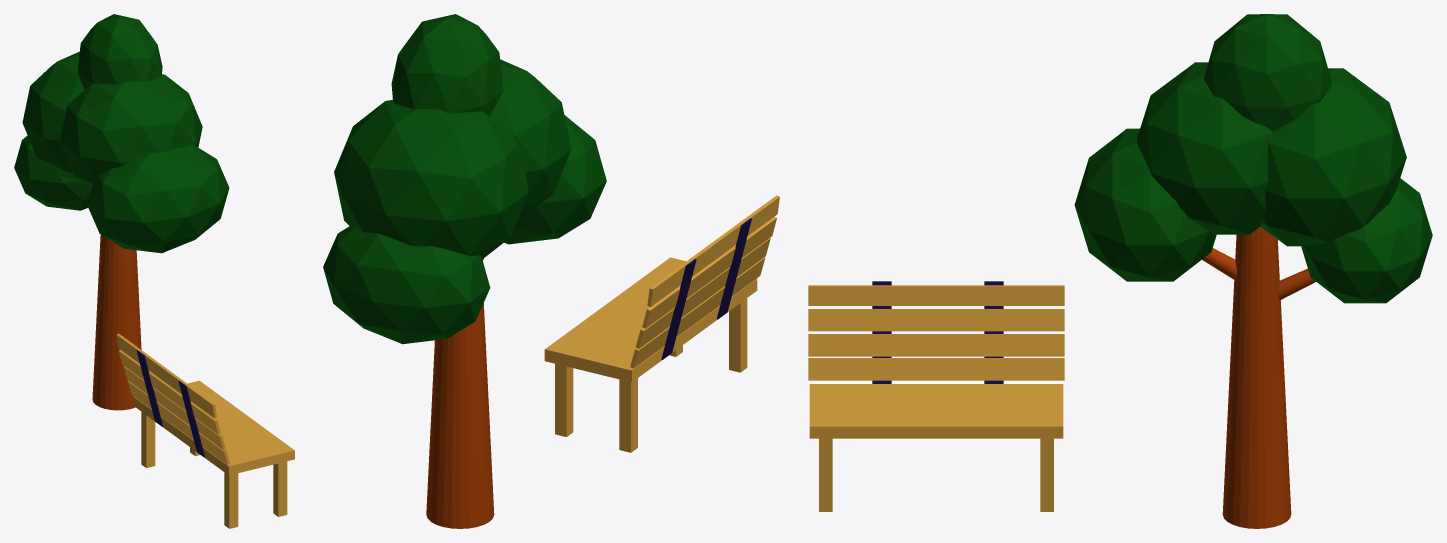
Rendered from park.glb.
3 renders of one model, left to right at view 1: azimuth 30°, elevation 25°; view 2: azimuth 150°, elevation 25°; view 3: azimuth 270°, elevation 25°, orthographic. The views are drawn at different scales.
Visible parts, largest first — view 1: Cube.001; view 2: Cube.001; view 3: Cube.001.
Part boxes in pixels (x1=…): Cube.001: x1=14, y1=14, x2=294, y2=528; Cube.001: x1=323, y1=14, x2=779, y2=528; Cube.001: x1=808, y1=14, x2=1432, y2=528.
Size of the model in its own units: 1.18 by 3.04 by 3.41.
